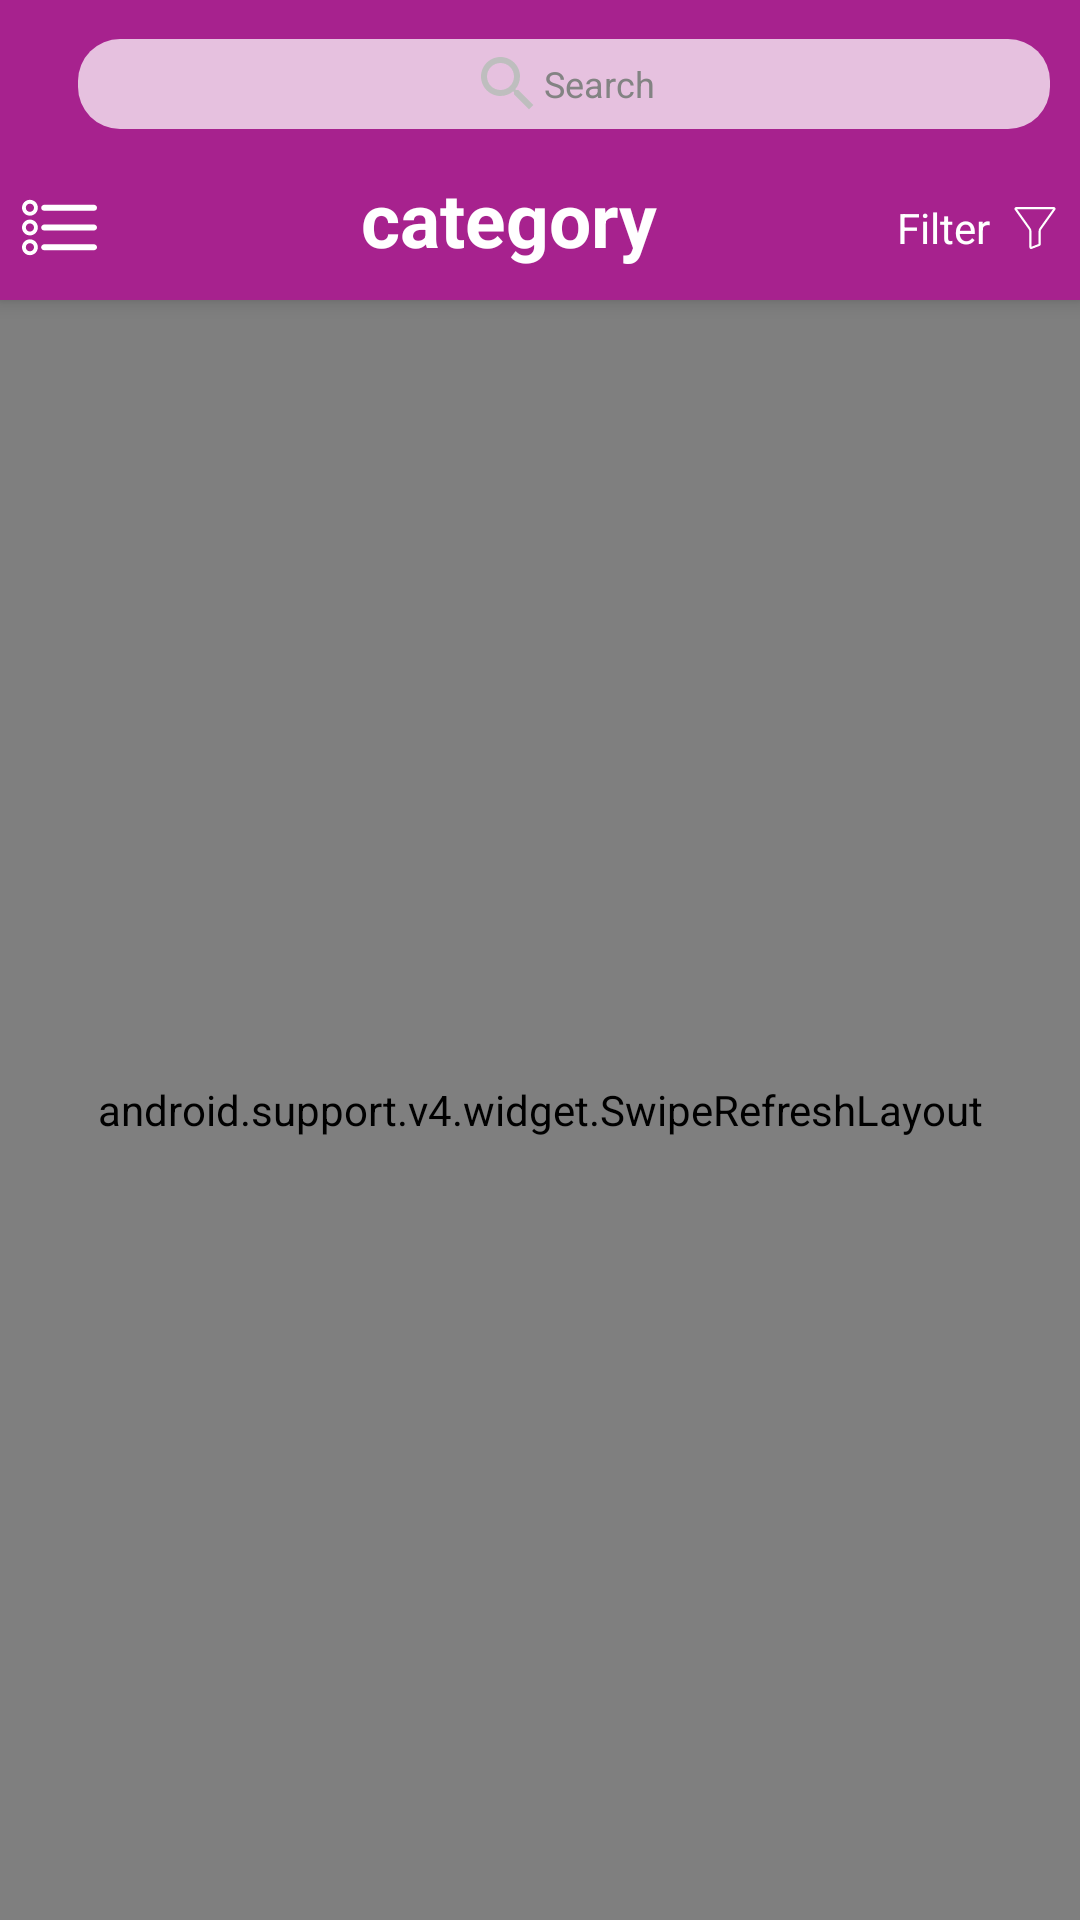

Point at icon controls on the screen. Image size 1080*1920, points as (x=x, y=y).
linearview: (x=59, y=227)
